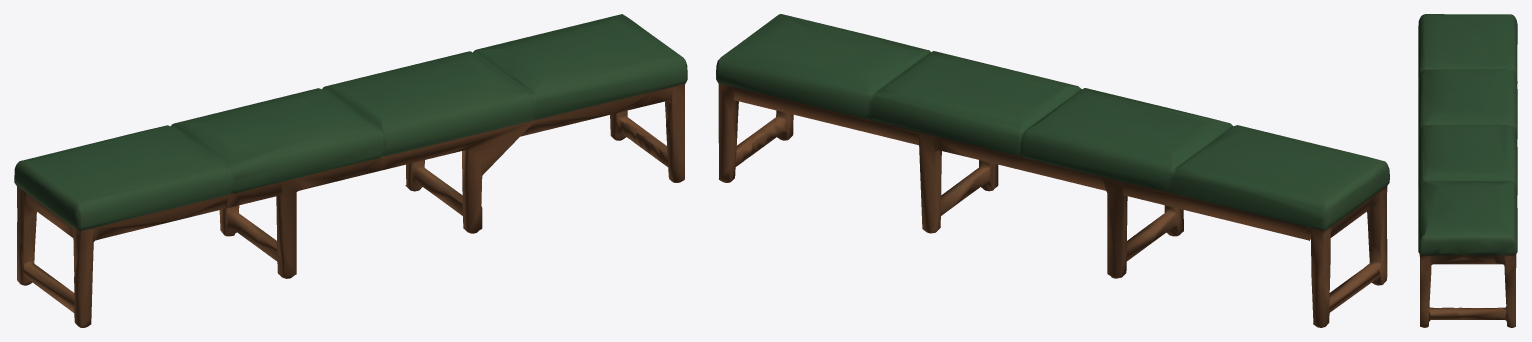
Rendered from Meshy_AI_Emerald_Modular_Bench_0610201636_texture.fbx.
3 renders of one model, left to right at view 1: azimuth 30°, elevation 25°; view 2: azimuth 150°, elevation 25°; view 3: azimuth 270°, elevation 25°, orthographic. The views are drawn at different scales.
Parts seen in each view (by area): view 1: Mesh_0; view 2: Mesh_0; view 3: Mesh_0.
Part boxes in pixels (x1,y1,x2,y2): Mesh_0: [14, 14, 687, 327]; Mesh_0: [716, 14, 1389, 327]; Mesh_0: [1418, 14, 1517, 327].
Size of the model in its own units: 191 by 39.54 by 35.8.
1 material, 1 textured.
